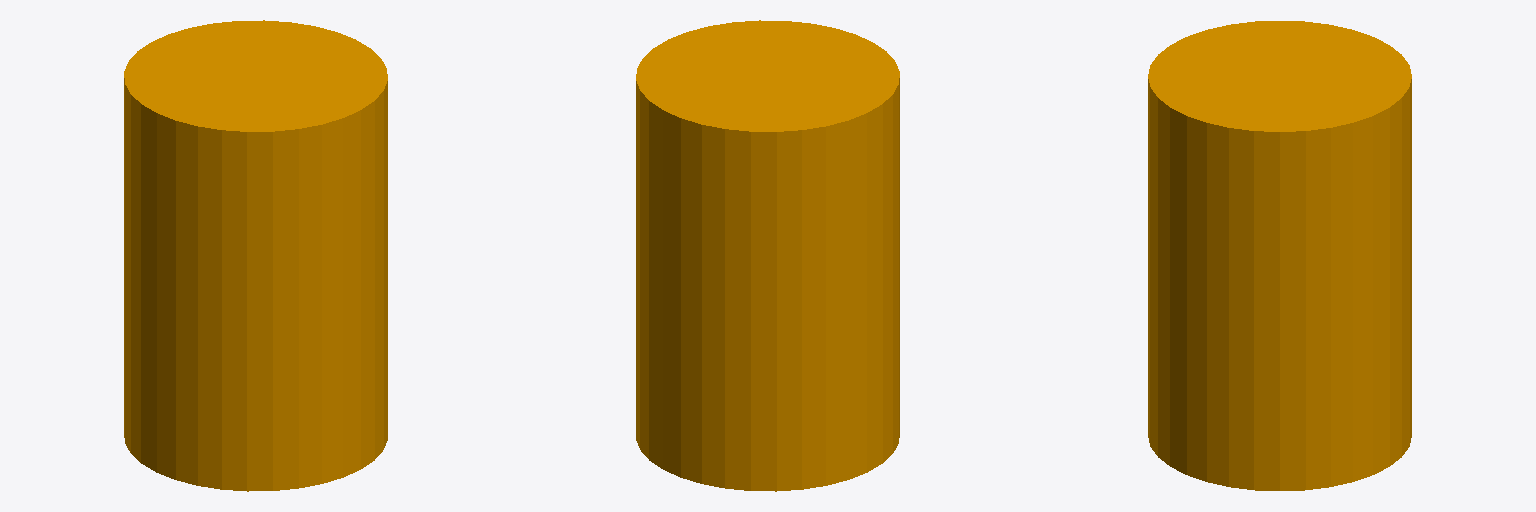
robot.urdf — test_001:
<?xml version="1.0"?>
<robot name="test_001">
    <link name="base_link">
        <visual>
            <geometry>
                <cylinder length="0.6" radius="0.2"/>
            </geometry>
        </visual>
    </link>
</robot>

--- Facts derived from the render (not from the file) ---
Views: 3 orthographic renders of the robot side by side, from view 1: azimuth 30°, elevation 25°; view 2: azimuth 150°, elevation 25°; view 3: azimuth 270°, elevation 25°.
Robot: test_001 — 1 links, 0 joints (none); root link base_link; default pose: every joint at zero.
Links seen in each view (by area): view 1: base_link; view 2: base_link; view 3: base_link.
Link boxes in pixels (x1,y1,x2,y2): base_link: [124, 20, 387, 491]; base_link: [636, 20, 899, 491]; base_link: [1148, 21, 1411, 490].
Size in the robot's own frame: 0.4 by 0.4 by 0.6 metres.
Geometry: primitives only (box / cylinder / sphere), no mesh files.
